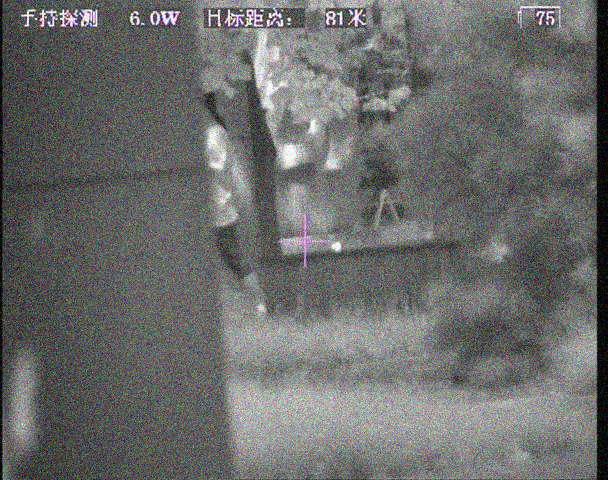my: (330, 240, 342, 252)
